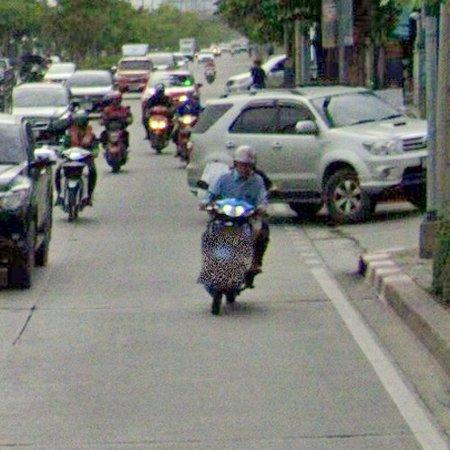motorcycles: (200, 198, 256, 315)
